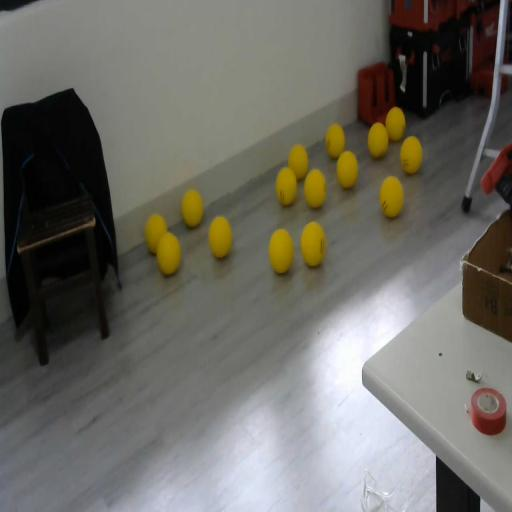FUEL: (300, 221, 326, 268), (155, 230, 181, 276), (268, 228, 294, 274), (378, 174, 404, 218), (208, 214, 232, 259), (303, 167, 327, 208), (366, 120, 390, 159), (181, 188, 204, 228), (336, 149, 358, 189), (400, 136, 422, 175), (275, 167, 297, 206), (288, 144, 308, 181), (385, 106, 406, 141), (326, 123, 345, 159)
